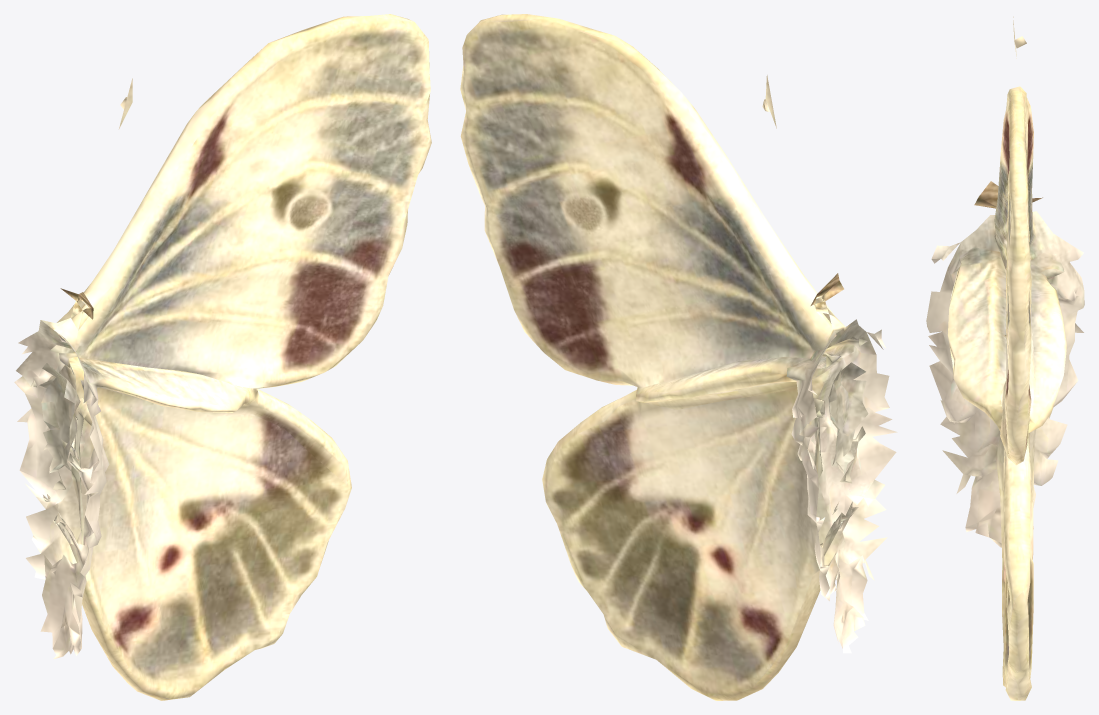
File: lintmoth-right.glb
3 views of the same model, side by side, from view 1: azimuth 30°, elevation 25°; view 2: azimuth 150°, elevation 25°; view 3: azimuth 270°, elevation 25° (orthographic). The views are drawn at different scales.
Visible parts, largest first — view 1: Mesh_0.001; view 2: Mesh_0.001; view 3: Mesh_0.001.
Boxes of the visible parts, x1,y1,x2,y2 form: Mesh_0.001: [14, 14, 431, 700]; Mesh_0.001: [460, 14, 897, 700]; Mesh_0.001: [926, 16, 1084, 700].
Size of the model in its own units: 0.6721 by 1.05 by 0.2304.
Materials: 1 (1 with a texture image).
